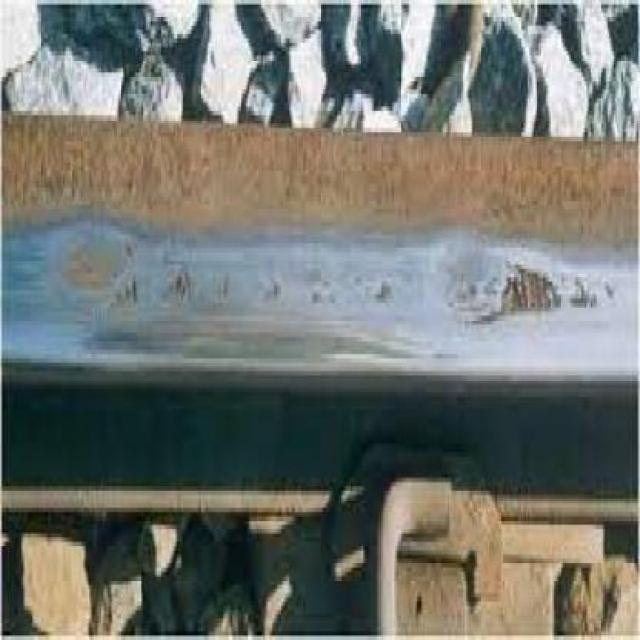defective: (0, 101, 639, 466)
